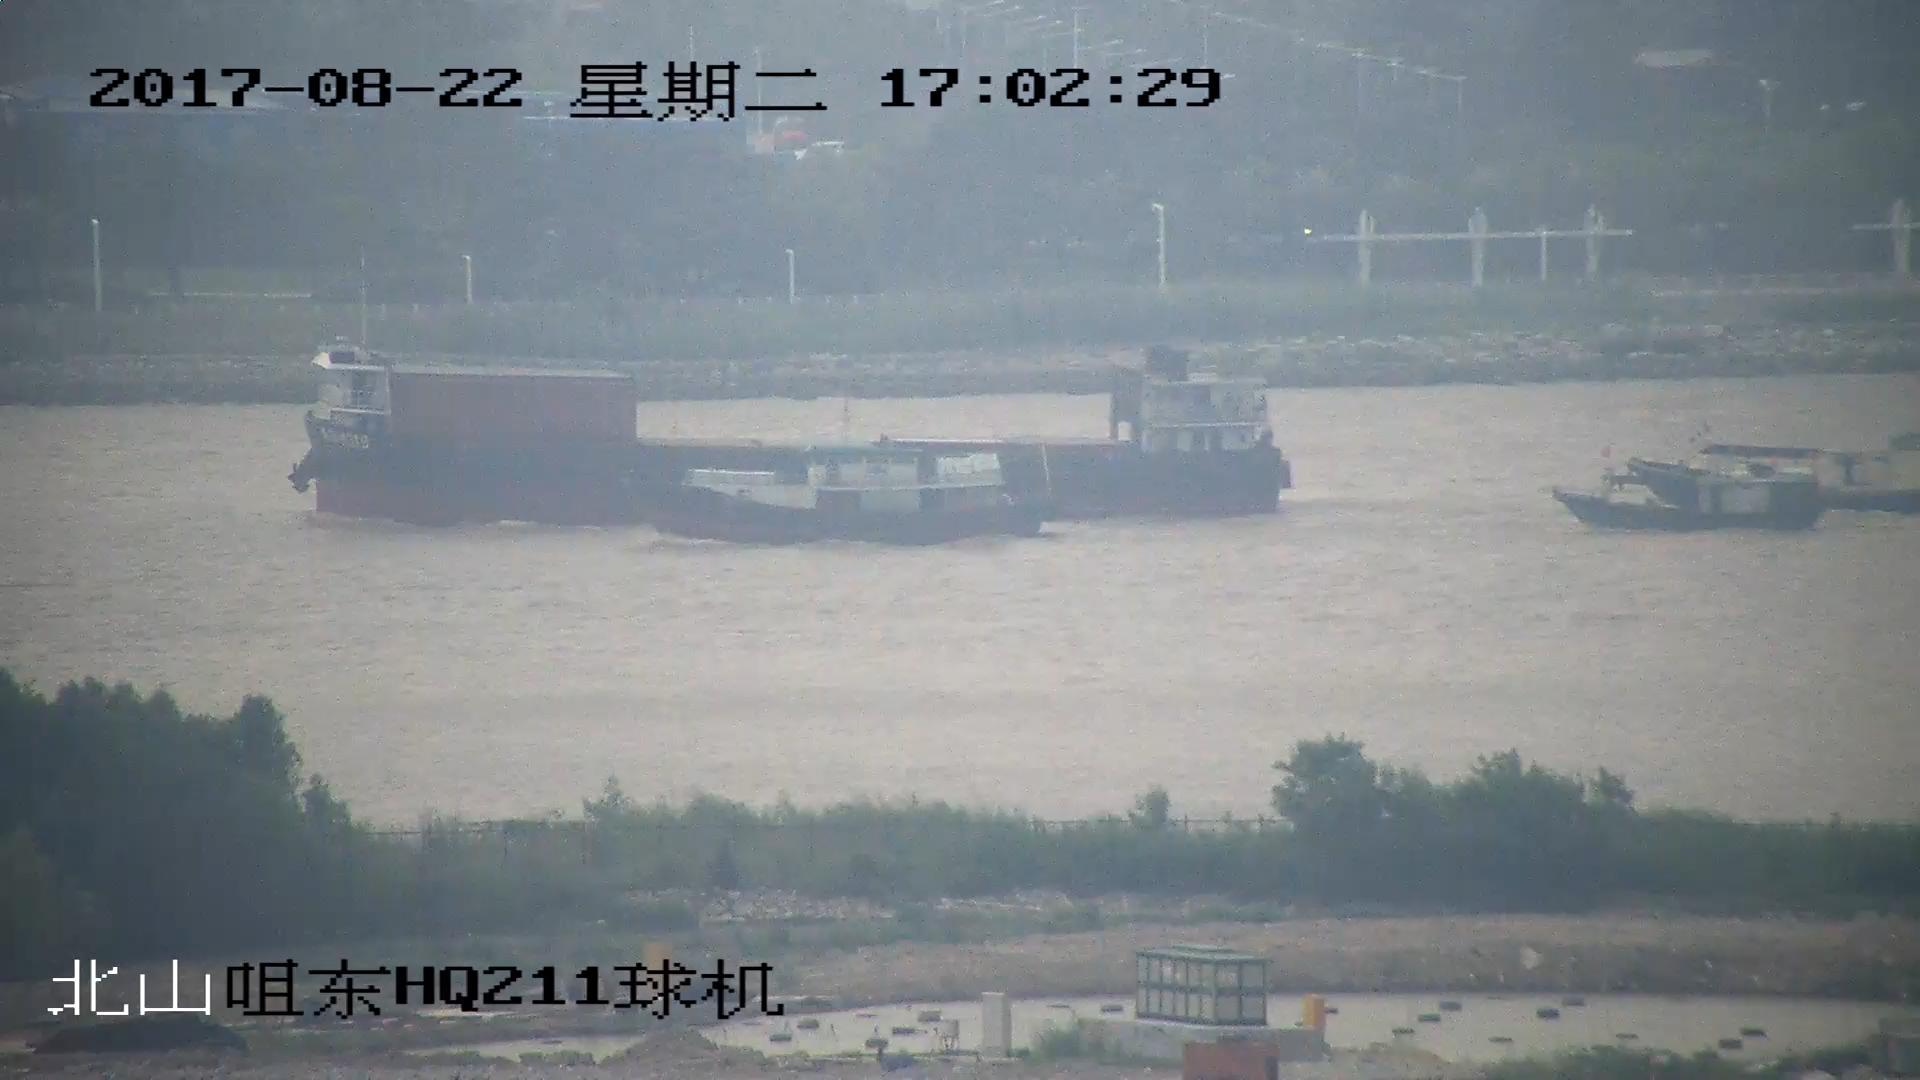Ship: (280, 326, 1294, 527), (630, 440, 1044, 547), (1611, 430, 1920, 522), (1552, 455, 1826, 534)
